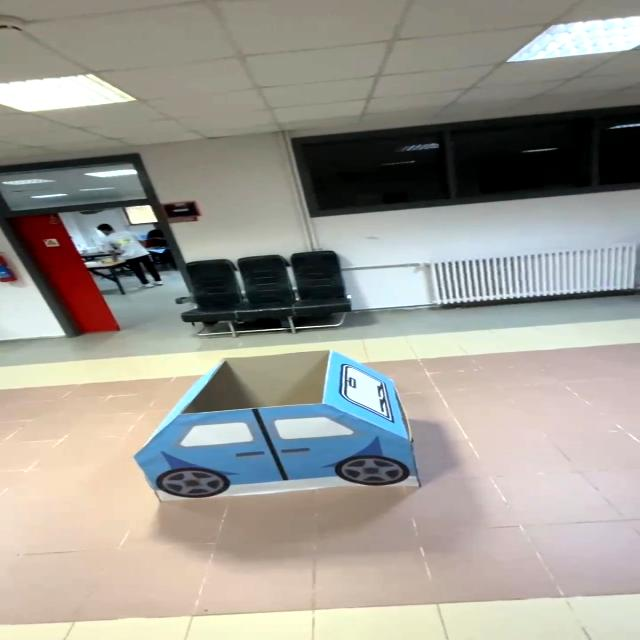blue_car: (100, 341, 434, 518)
